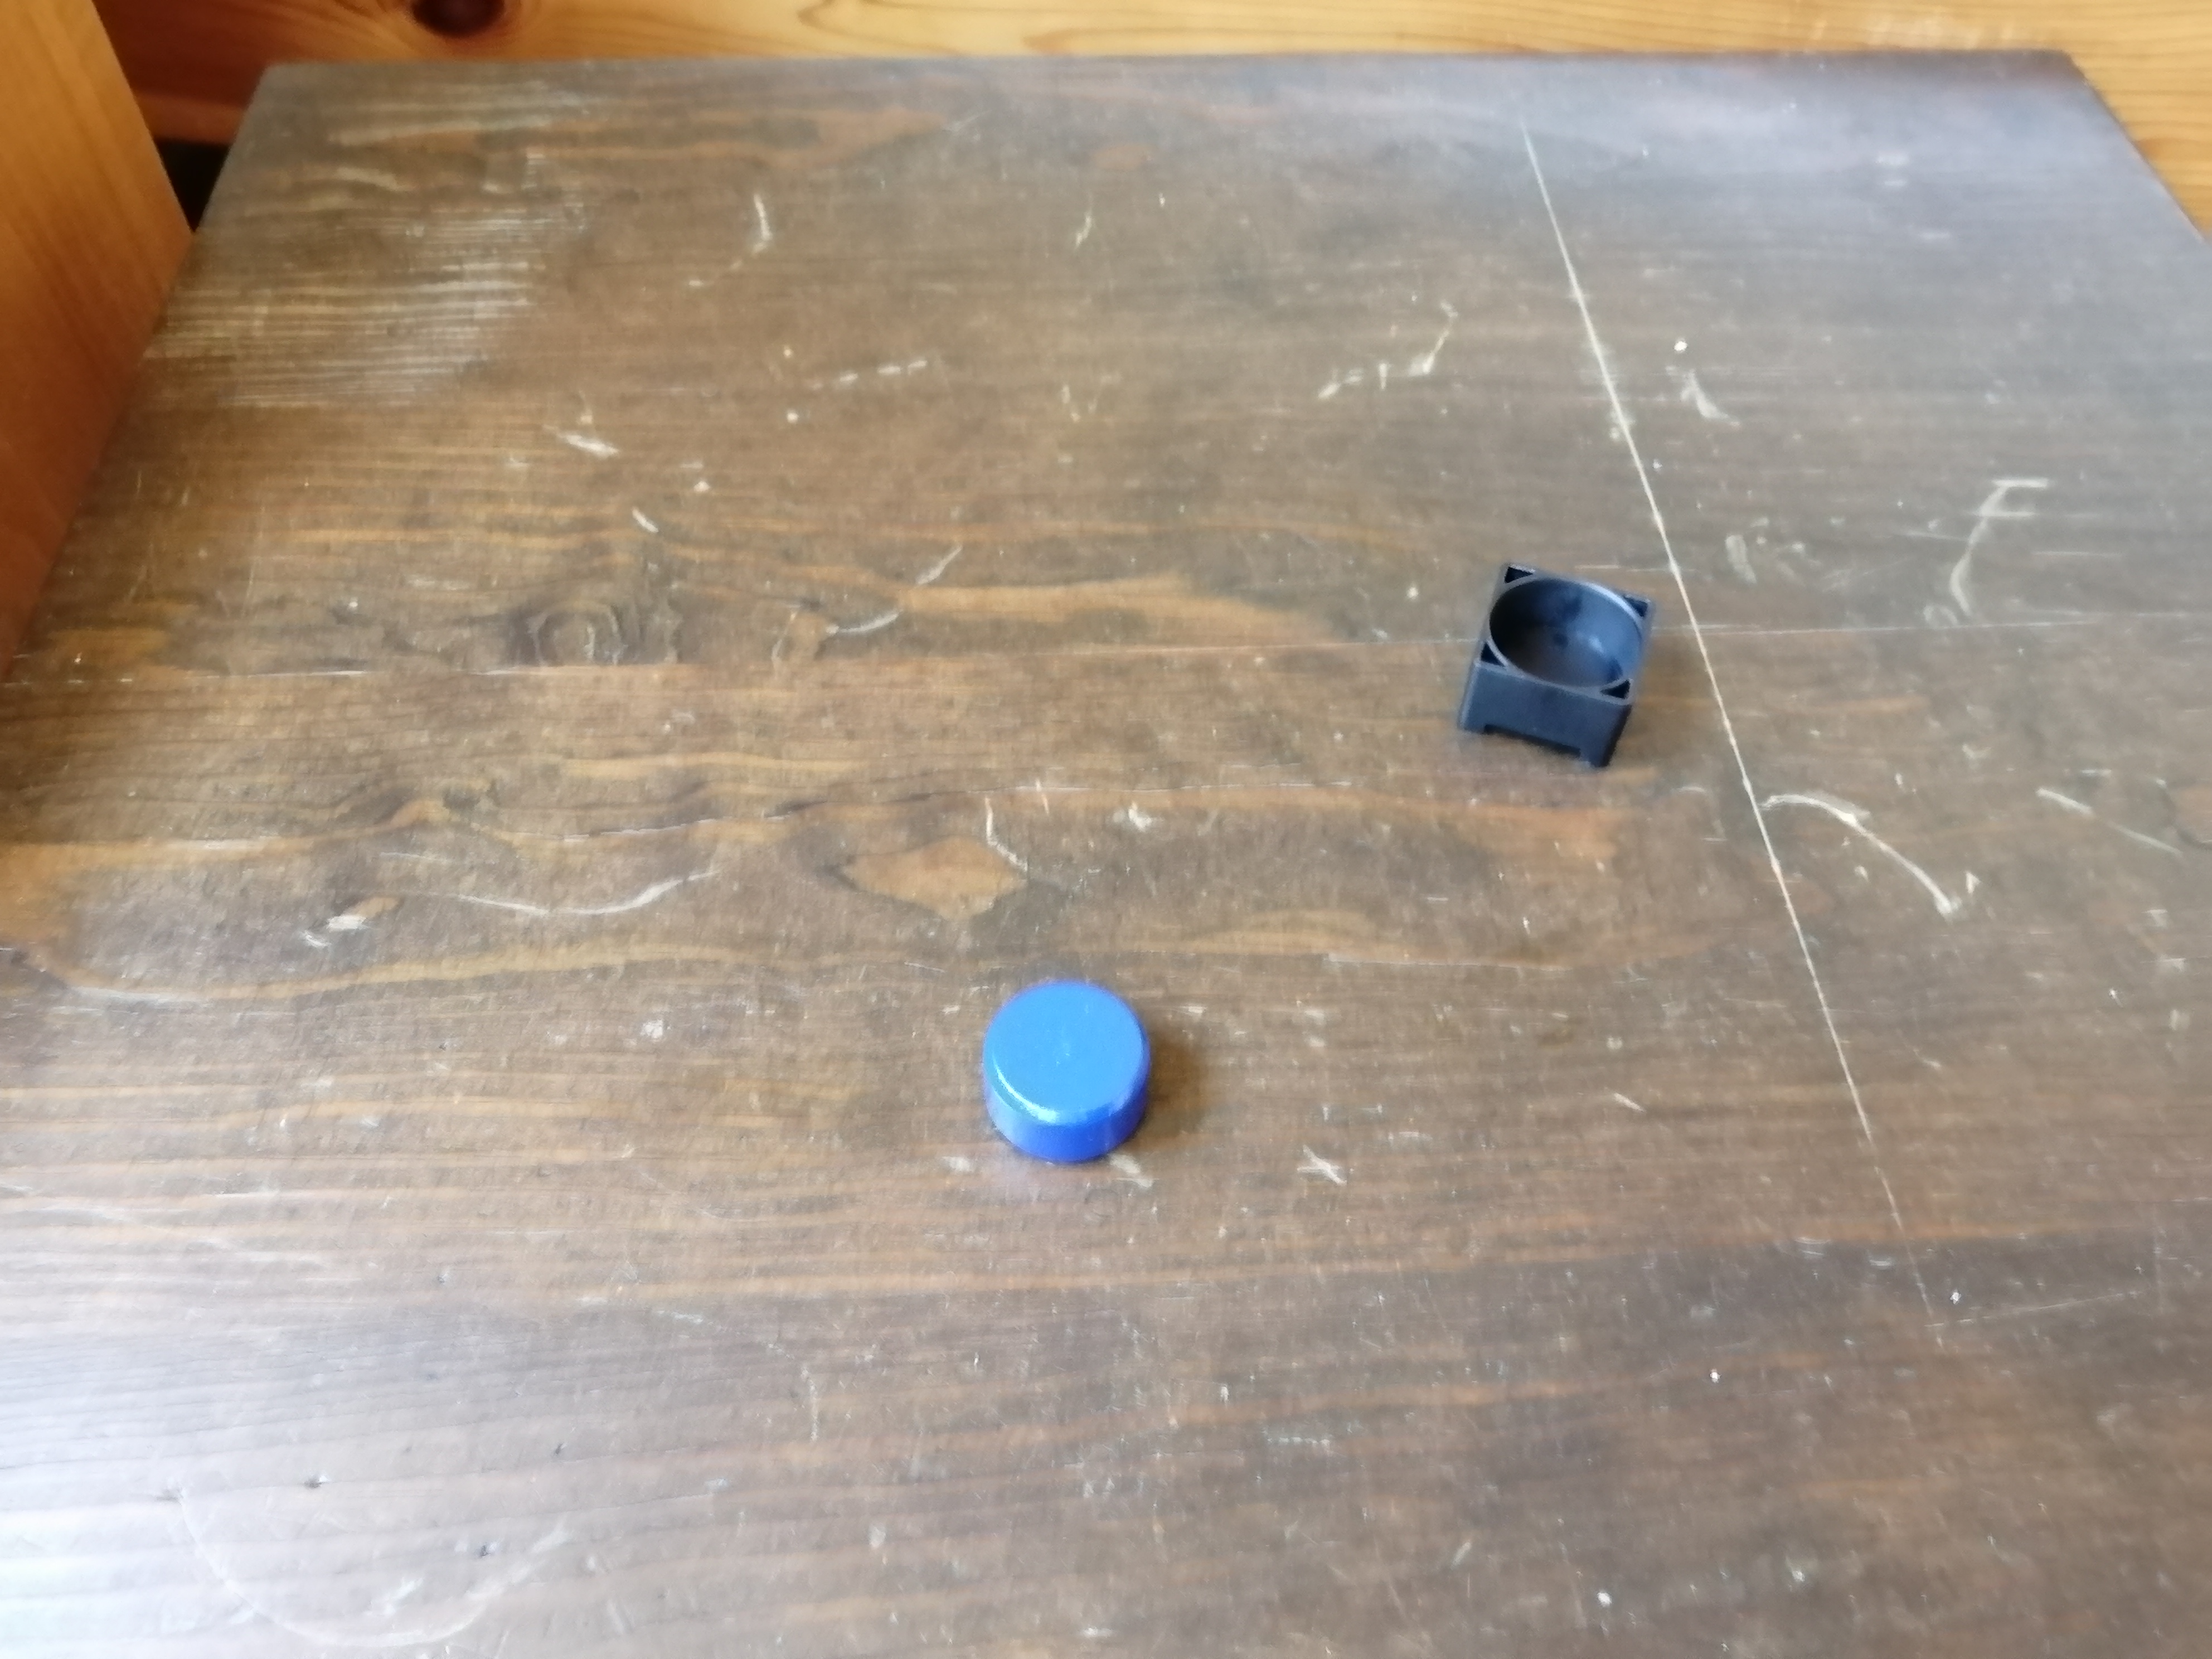Behaelter: (1467, 566, 1658, 760)
WerkStueck: (975, 979, 1144, 1154)
